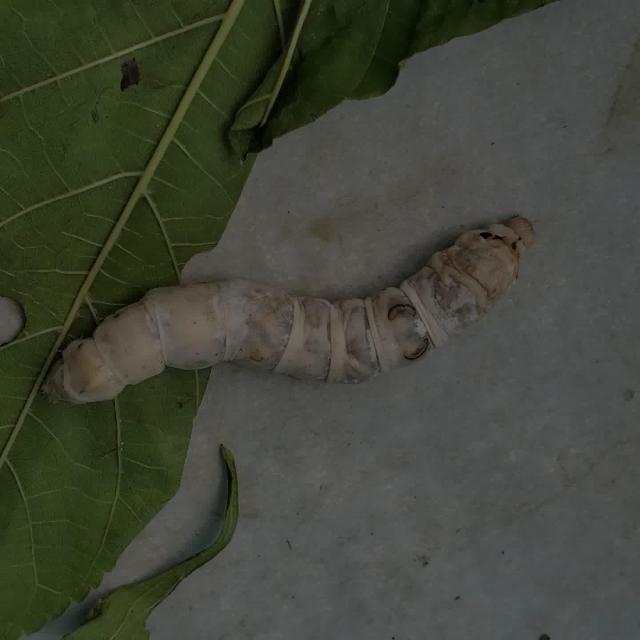Grasserie: (35, 202, 541, 421)
